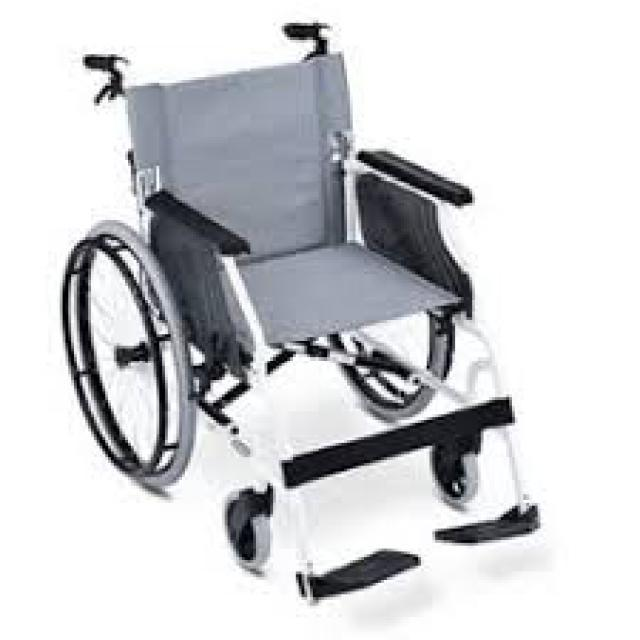wheelchair: (45, 11, 549, 618)
